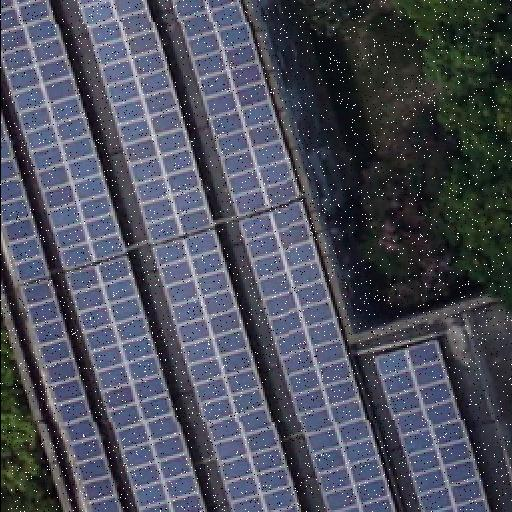solar-panel: (76, 0, 300, 512), (173, 0, 395, 512), (1, 0, 207, 512), (22, 280, 122, 512), (372, 337, 488, 511), (0, 112, 52, 284)
